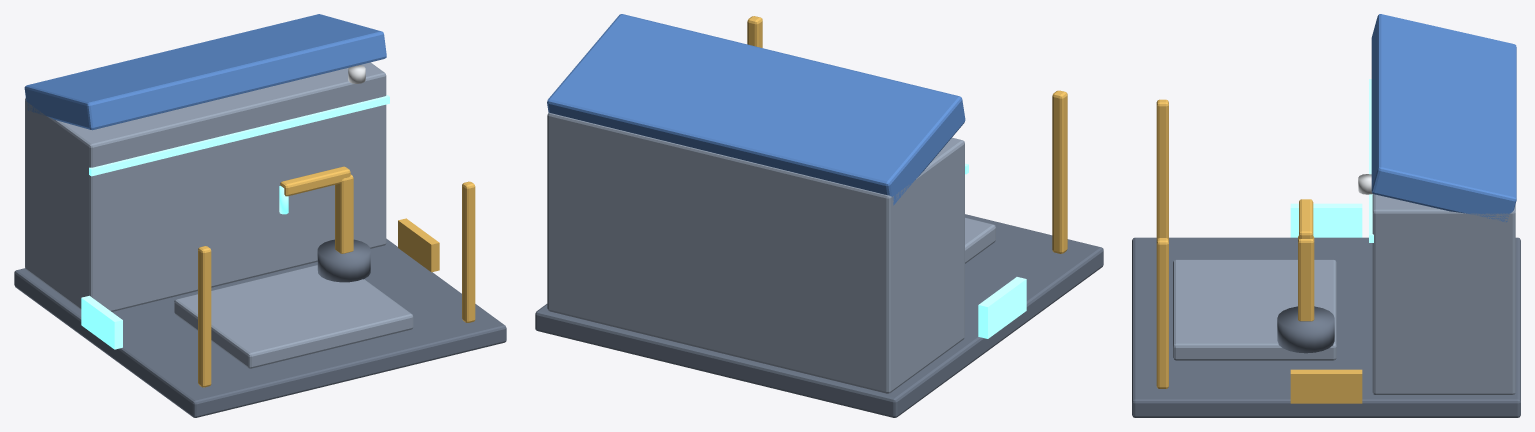
File: fabrica_robots.glb
3 renders of one model, left to right at view 1: azimuth 30°, elevation 25°; view 2: azimuth 150°, elevation 25°; view 3: azimuth 270°, elevation 25°, orthographic. The views are drawn at different scales.
Visible parts, largest first — view 1: nave_trasera, base, techo_dientes, plataforma, franja_neon, poste_-2, poste_+2, brazo_base, puerto_entrada, puerto_salida, brazo_a, brazo_b; view 2: nave_trasera, techo_dientes, base, poste_-2, puerto_entrada, plataforma; view 3: base, nave_trasera, techo_dientes, plataforma, puerto_salida, brazo_base, puerto_entrada, poste_+2, poste_-2, brazo_a, brazo_b, franja_neon.
Part boxes in pixels (x1=…): nave_trasera: x1=25, y1=62, x2=386, y2=311; base: x1=14, y1=238, x2=506, y2=417; techo_dientes: x1=24, y1=14, x2=386, y2=130; plataforma: x1=174, y1=265, x2=413, y2=368; franja_neon: x1=89, y1=95, x2=389, y2=176; poste_-2: x1=198, y1=246, x2=211, y2=387; poste_+2: x1=462, y1=181, x2=475, y2=322; brazo_base: x1=317, y1=239, x2=370, y2=282; puerto_entrada: x1=81, y1=295, x2=122, y2=349; puerto_salida: x1=398, y1=218, x2=439, y2=272; brazo_a: x1=335, y1=174, x2=353, y2=253; brazo_b: x1=280, y1=166, x2=350, y2=196; nave_trasera: x1=547, y1=112, x2=964, y2=393; techo_dientes: x1=547, y1=14, x2=965, y2=205; base: x1=535, y1=214, x2=1103, y2=417; poste_-2: x1=1052, y1=90, x2=1067, y2=253; puerto_entrada: x1=978, y1=277, x2=1026, y2=338; plataforma: x1=965, y1=217, x2=995, y2=263; base: x1=1132, y1=237, x2=1520, y2=417; nave_trasera: x1=1372, y1=194, x2=1515, y2=394; techo_dientes: x1=1371, y1=14, x2=1516, y2=222; plataforma: x1=1173, y1=259, x2=1336, y2=360; puerto_salida: x1=1290, y1=369, x2=1362, y2=403; brazo_base: x1=1277, y1=306, x2=1334, y2=353; puerto_entrada: x1=1290, y1=203, x2=1362, y2=237; poste_+2: x1=1156, y1=238, x2=1168, y2=388; poste_-2: x1=1156, y1=99, x2=1168, y2=240; brazo_a: x1=1298, y1=235, x2=1314, y2=321; brazo_b: x1=1299, y1=199, x2=1313, y2=238; franja_neon: x1=1369, y1=79, x2=1373, y2=242.
Bounding box in the file's own units: 3.94 × 2.66 × 3.8.
